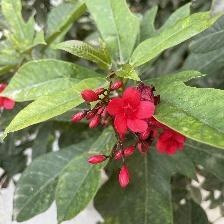jatropha: (107, 87, 156, 138), (156, 126, 189, 158), (1, 81, 16, 111)
